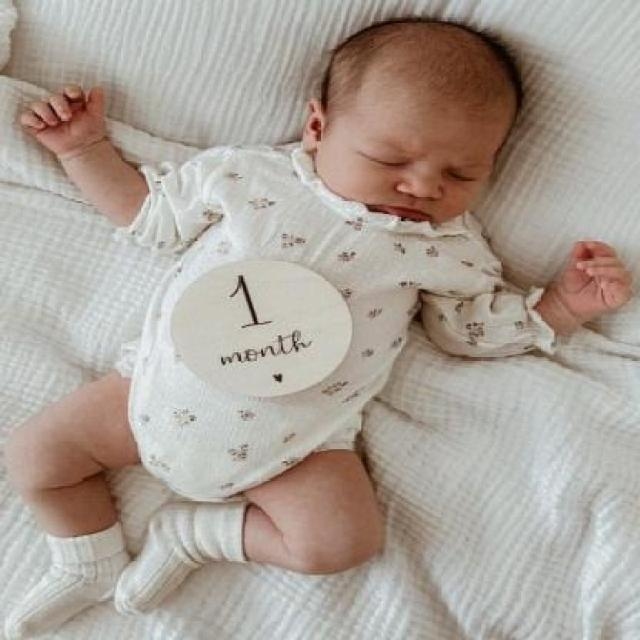baby: (17, 16, 631, 596)
